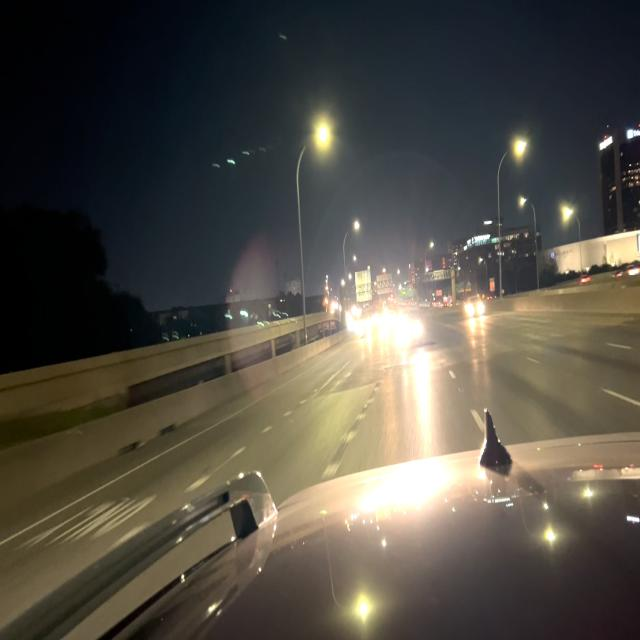back-of-sign: (354, 268, 372, 305), (376, 272, 393, 299)
